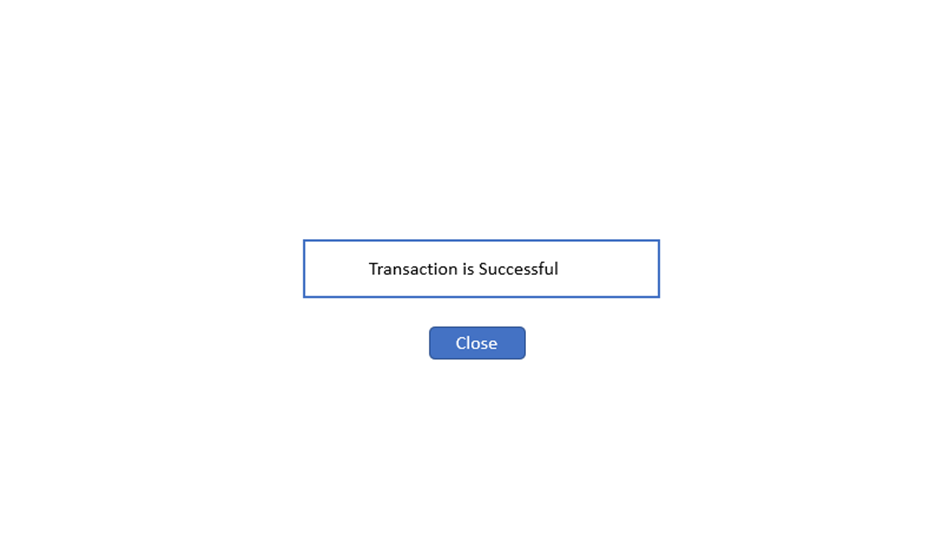button: (420, 316, 536, 368)
